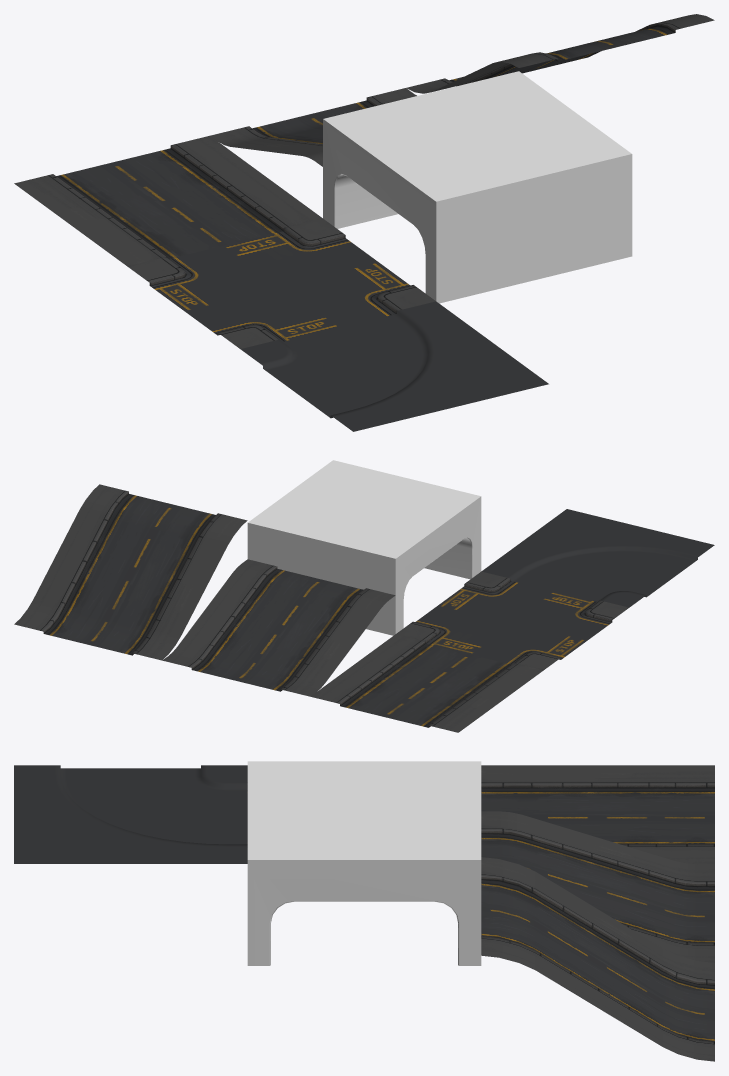
Rendered from RoadParts.glb.
3 renders of one model, top to bottom at view 1: azimuth 30°, elevation 25°; view 2: azimuth 150°, elevation 25°; view 3: azimuth 270°, elevation 25°, orthographic. The views are drawn at different scales.
Parts seen in each view (by area): view 1: tunnel_low, road_intersection, road_straight, road_curve_90, road_hill, road_hill_steep; view 2: road_hill_steep, tunnel_low, road_hill, road_curve_90, road_straight, road_intersection; view 3: tunnel_low, road_hill_steep, road_curve_90, road_straight, road_hill.
Boxes of the visible parts, x1,y1,x2,y2 form: tunnel_low: (323, 71, 632, 303); road_intersection: (127, 218, 435, 348); road_straight: (14, 135, 322, 266); road_curve_90: (240, 301, 548, 431); road_hill: (210, 88, 416, 166); road_hill_steep: (406, 14, 714, 93); road_hill_steep: (14, 484, 247, 660); tunnel_low: (247, 460, 481, 635); road_hill: (162, 559, 395, 696); road_curve_90: (481, 509, 714, 607); road_straight: (310, 634, 543, 732); road_intersection: (396, 571, 628, 670); tunnel_low: (247, 761, 481, 965); road_hill_steep: (481, 857, 714, 1061); road_curve_90: (14, 765, 247, 863); road_straight: (481, 765, 714, 863); road_hill: (481, 811, 714, 962).
Size of what is drawn, in the model's own units: 30 by 5.14 by 30.
1 material, 1 textured.
